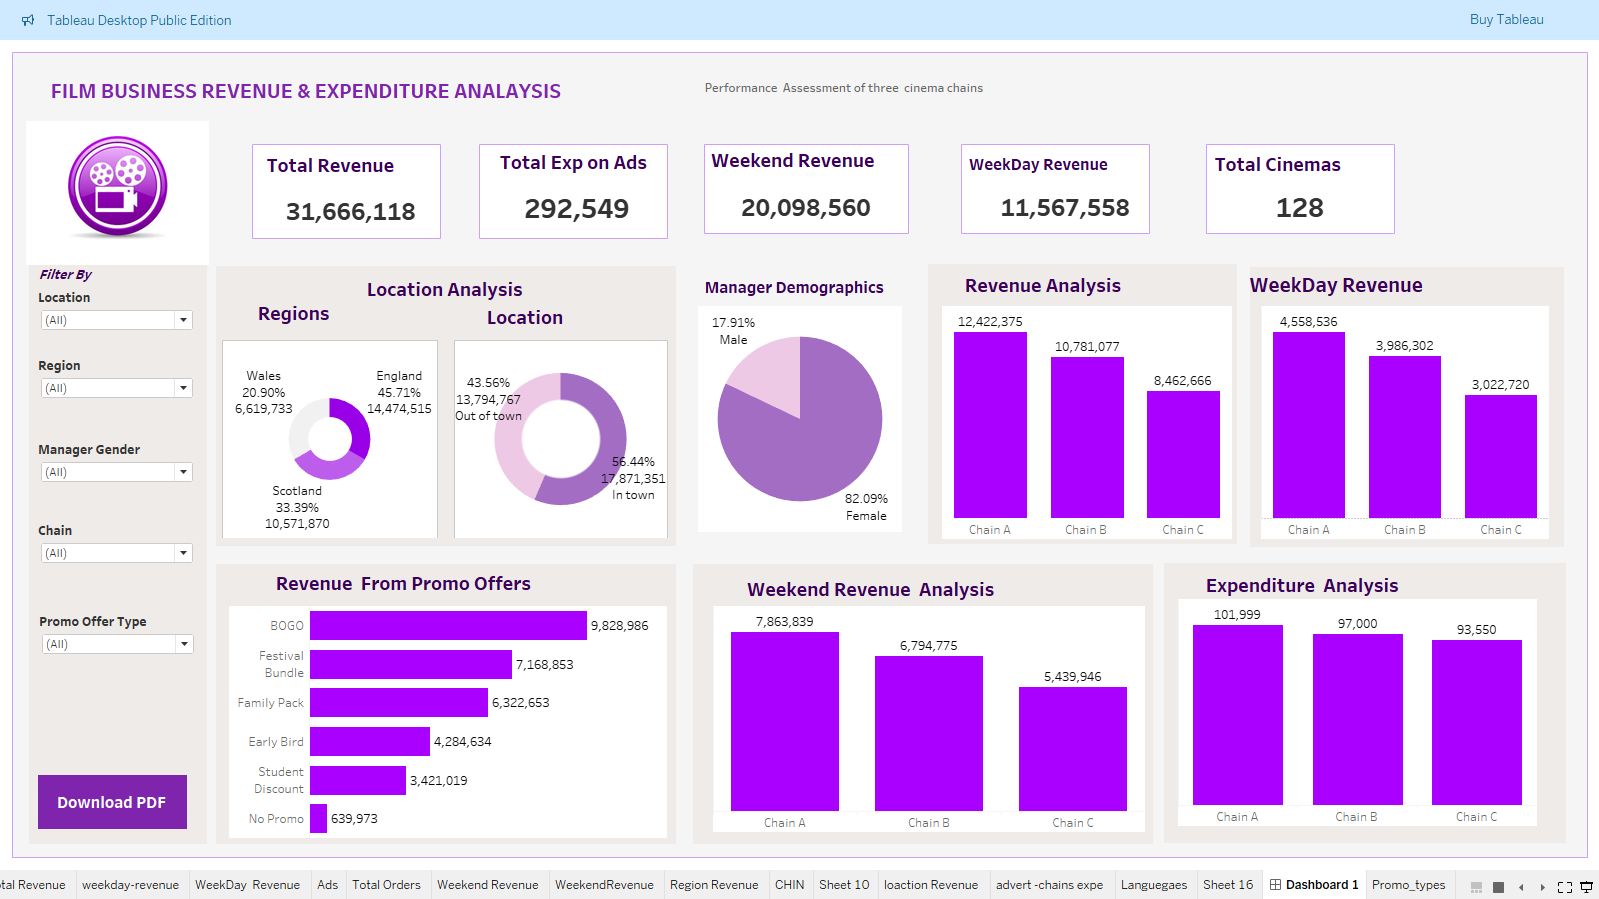

This screenshot's page, from the dashboard's own definition file:
{"tool":"tableau","page":{"name":"Dashboard 1","canvas":[1000,1000],"units":"permille","ordinal":0},"visuals":[{"type":"blank","box":[5.8,11.8,988.5,976.3]},{"type":"text","box":[30.2,29.6,396,60.6]},{"type":"text","box":[438.4,35.5,226.8,44.4]},{"type":"blank","box":[16.6,97.6,114.5,173.1]},{"type":"blank","box":[18,109.5,111.6,859.5]},{"type":"image","param":"D:/DATA ANALYTICS/TABLEAU/film2 icon.jpg","box":[29.5,109.5,87.8,133.1]},{"type":"blank","box":[136.1,122.8,840.2,140.5]},{"type":"blank","box":[157.7,125.7,118.1,113.9]},{"type":"blank","box":[299.5,125.7,118.1,113.9]},{"type":"blank","box":[439.9,125.7,128.2,108]},{"type":"text","box":[439.9,125.7,123.1,37]},{"type":"blank","box":[600.4,125.7,118.1,108]},{"type":"blank","box":[753.8,125.7,118.1,108]},{"type":"text","box":[164.9,127.2,95.8,44.4]},{"type":"text","box":[299.5,127.2,118.1,37]},{"type":"text","box":[601.1,130.2,118.1,37]},{"type":"text","box":[757.4,130.2,111.6,37]},{"type":"worksheet","title":"Total Orders","mark":"Automatic","box":[757.4,167.2,110.2,62.1]},{"type":"worksheet","title":"Weekend Revenue","mark":"Automatic","box":[446.4,168.6,115.2,62.1]},{"type":"worksheet","title":"Ads","mark":"Automatic","box":[309.6,171.6,102.2,62.1]},{"type":"worksheet","title":"WeekDay  Revenue","mark":"Automatic","box":[604,173.1,105.1,62.1]},{"type":"worksheet","title":"total Revenue","mark":"Automatic","box":[166.3,176,105.8,57.7]},{"type":"blank","box":[429.1,267.8,141.1,340.2]},{"type":"blank","box":[579.6,269.2,194.4,340.2]},{"type":"blank","box":[134.6,270.7,288.7,340.2]},{"type":"text","box":[776.1,270.7,172.1,44.4]},{"type":"text","box":[599,272.2,145.4,44.4]},{"type":"blank","box":[780.4,272.2,197.3,340.2]},{"type":"text","box":[444.9,275.2,123.8,44.4]},{"type":"text","box":[227.5,276.6,145.4,44.4]},{"type":"filter","title":"loaction Revenue","param":"[federated.00z7dxs1qbkjfk1949mai1bs5xbm].[none:LOCATION:nk]","box":[23.8,282.5,98.6,84.3]},{"type":"text","box":[159.1,306.2,85,44.4]},{"type":"text","box":[302.4,310.7,110.9,44.4]},{"type":"worksheet","title":"Manager Gender Revenue","mark":"Pie","box":[436.3,321,127.4,272.2]},{"type":"worksheet","title":"Revenue-Chain","mark":"Automatic","rows":["Total"],"cols":["CHAIN"],"box":[588.9,321,181.4,281.1]},{"type":"worksheet","title":"weekday-revenue","mark":"Automatic","rows":["WEEKDAY"],"cols":["Chain"],"box":[788.3,321,180,281.1]},{"type":"worksheet","title":"Region Revenue","mark":"Pie","rows":["Calculation_1137440396229136384","Calculation_1137440396229136384"],"box":[139,360.9,135.3,239.6]},{"type":"worksheet","title":"loaction Revenue","mark":"Automatic","rows":["Calculation_1137440396229136384","Calculation_1137440396229136384"],"box":[283.7,360.9,133.9,239.6]},{"type":"filter","title":"Region Revenue","param":"[federated.00z7dxs1qbkjfk1949mai1bs5xbm].[none:REGION:nk]","box":[23.8,366.9,98.6,60.6]},{"type":"filter","title":"Manager Gender Revenue","param":"[federated.00z7dxs1qbkjfk1949mai1bs5xbm].[none:Manager Gender:nk]","box":[23.8,471.9,98.6,88.8]},{"type":"filter","title":"Revenue-Chain","param":"[federated.00z7dxs1qbkjfk1949mai1bs5xbm].[none:CHAIN:nk]","box":[23.8,560.6,98.6,60.6]},{"type":"blank","box":[727.1,628.7,252.7,340.2]},{"type":"blank","box":[134.6,630.2,288.7,340.2]},{"type":"blank","box":[432.7,630.2,288.7,340.2]},{"type":"text","box":[170.6,631.7,190.8,44.4]},{"type":"text","box":[749.5,633.1,145.4,44.4]},{"type":"text","box":[462.2,639.1,190.8,44.4]},{"type":"filter","title":"Promo_types","param":"[federated.00z7dxs1qbkjfk1949mai1bs5xbm].[none:Promo_Offer:nk]","box":[23.8,656.8,98.6,66.6]},{"type":"worksheet","title":"advert -chains expe","mark":"Automatic","rows":["ADVERTISING EXPENDITURE"],"cols":["CHAIN"],"box":[736.5,673.1,224.6,273.7]},{"type":"worksheet","title":"Promo_types","mark":"Automatic","rows":["Promo_Offer"],"cols":["Total"],"box":[143.3,682,273.6,279.6]},{"type":"worksheet","title":"WeekendRevenue","mark":"Automatic","rows":["WEEKEND"],"cols":["Chain"],"box":[445.6,682,270,272.2]},{"type":"dashboard-object","box":[28.1,818.1,96.5,42.9]},{"type":"dashboard-object","box":[23.8,886.1,92.9,65.1]}]}

Visuals, with their boxes on the dashboard's canvas, which has no fixed pixel size, in thousandths of its width and height (x1, y1, x2, y2). These are canvas units, not pixel positions in the 1599x899 screenshot, which may show the page scaled, cropped or inside an application window:
blank: locate(6, 12, 994, 988)
text: locate(30, 30, 426, 90)
text: locate(438, 36, 665, 80)
blank: locate(17, 98, 131, 271)
blank: locate(18, 110, 130, 969)
image: locate(30, 110, 117, 243)
blank: locate(136, 123, 976, 263)
blank: locate(158, 126, 276, 240)
blank: locate(300, 126, 418, 240)
blank: locate(440, 126, 568, 234)
text: locate(440, 126, 563, 163)
blank: locate(600, 126, 718, 234)
blank: locate(754, 126, 872, 234)
text: locate(165, 127, 261, 172)
text: locate(300, 127, 418, 164)
text: locate(601, 130, 719, 167)
text: locate(757, 130, 869, 167)
"Total Orders" worksheet: locate(757, 167, 868, 229)
"Weekend Revenue" worksheet: locate(446, 169, 562, 231)
"Ads" worksheet: locate(310, 172, 412, 234)
"WeekDay  Revenue" worksheet: locate(604, 173, 709, 235)
"total Revenue" worksheet: locate(166, 176, 272, 234)
blank: locate(429, 268, 570, 608)
blank: locate(580, 269, 774, 609)
blank: locate(135, 271, 423, 611)
text: locate(776, 271, 948, 315)
text: locate(599, 272, 744, 317)
blank: locate(780, 272, 978, 612)
text: locate(445, 275, 569, 320)
text: locate(228, 277, 373, 321)
"loaction Revenue" filter: locate(24, 282, 122, 367)
text: locate(159, 306, 244, 351)
text: locate(302, 311, 413, 355)
"Manager Gender Revenue" worksheet (Pie marks): locate(436, 321, 564, 593)
"Revenue-Chain" worksheet: locate(589, 321, 770, 602)
"weekday-revenue" worksheet: locate(788, 321, 968, 602)
"Region Revenue" worksheet (Pie marks): locate(139, 361, 274, 600)
"loaction Revenue" worksheet: locate(284, 361, 418, 600)
"Region Revenue" filter: locate(24, 367, 122, 428)
"Manager Gender Revenue" filter: locate(24, 472, 122, 561)
"Revenue-Chain" filter: locate(24, 561, 122, 621)
blank: locate(727, 629, 980, 969)
blank: locate(135, 630, 423, 970)
blank: locate(433, 630, 721, 970)
text: locate(171, 632, 361, 676)
text: locate(750, 633, 895, 678)
text: locate(462, 639, 653, 684)
"Promo_types" filter: locate(24, 657, 122, 723)
"advert -chains expe" worksheet: locate(736, 673, 961, 947)
"Promo_types" worksheet: locate(143, 682, 417, 962)
"WeekendRevenue" worksheet: locate(446, 682, 716, 954)
dashboard-object: locate(28, 818, 125, 861)
dashboard-object: locate(24, 886, 117, 951)
